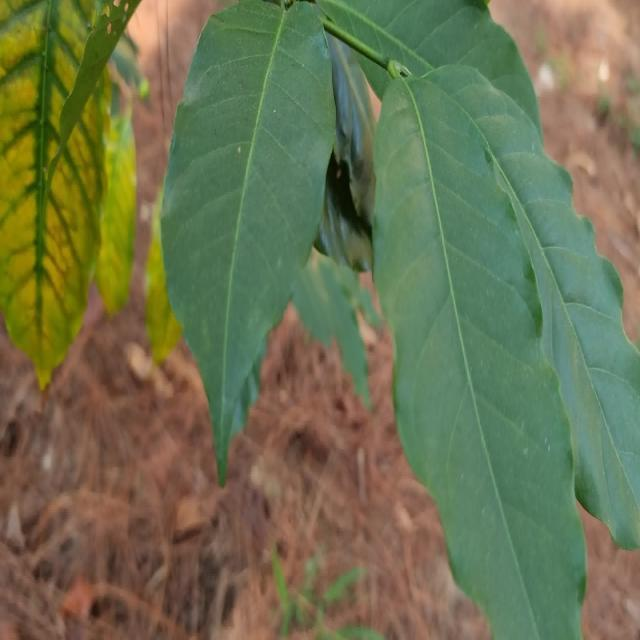leaves: (322, 59, 616, 640), (117, 0, 357, 491)
